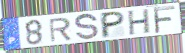8: (25, 19, 45, 46)
F: (152, 5, 177, 35)
H: (127, 8, 151, 37)
P: (100, 10, 126, 40)
R: (48, 16, 74, 43)
S: (74, 12, 100, 42)
